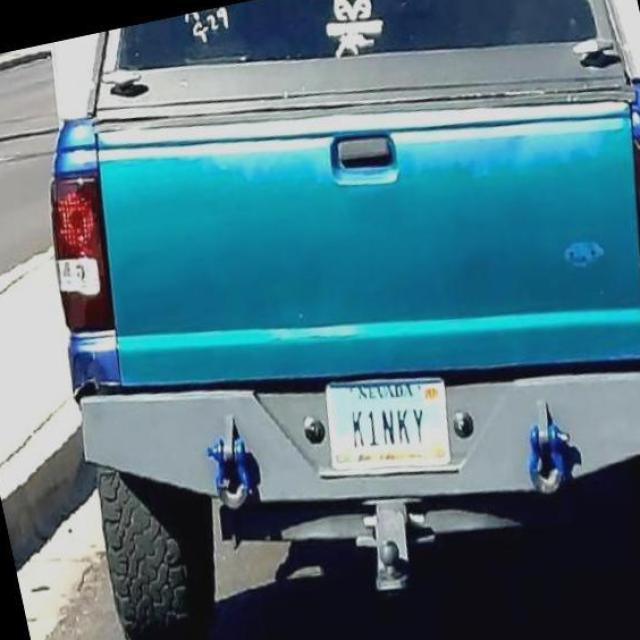license-plate: (323, 348, 467, 468)
